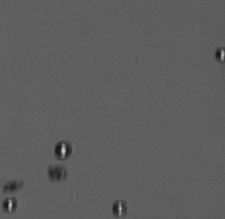Dead Cell: (48, 166, 68, 181), (3, 179, 22, 193)
Living Cell: (53, 140, 71, 160), (111, 197, 127, 215), (2, 197, 19, 213)
